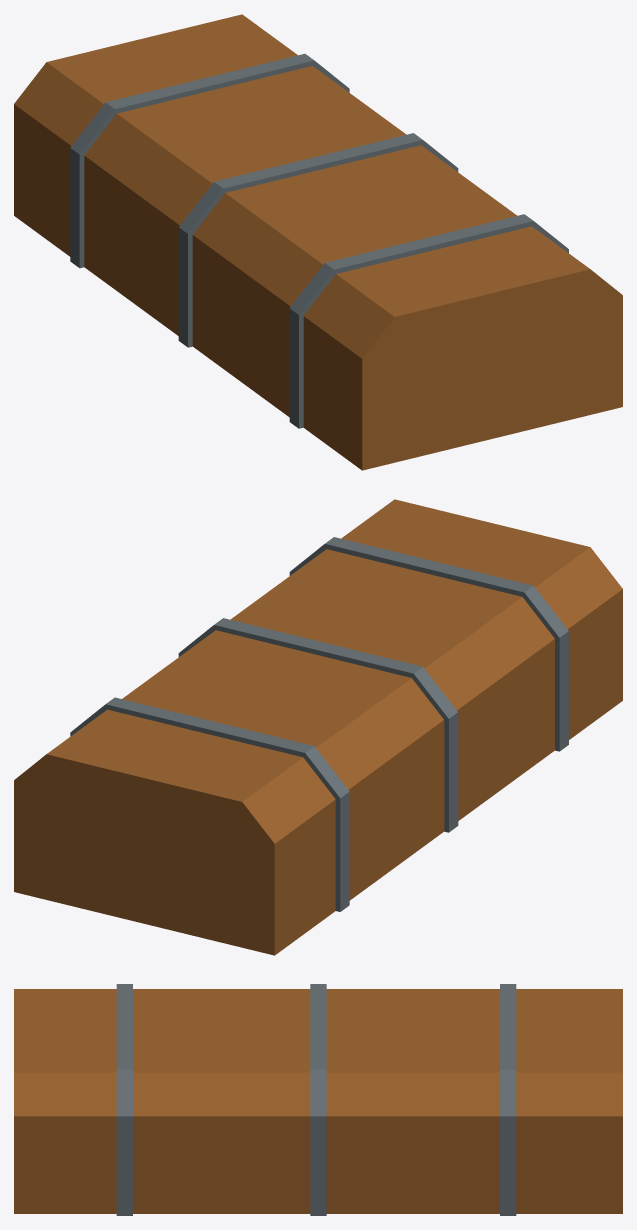
Rendered from Grosse_Mallette_.fbx.
The picture shows the model from 3 angles, top to bottom: view 1: azimuth 30°, elevation 25°; view 2: azimuth 150°, elevation 25°; view 3: azimuth 270°, elevation 25°; orthographic projection. The views are drawn at different scales.
Parts seen in each view (by area): view 1: Grosse_Mallette_; view 2: Grosse_Mallette_; view 3: Grosse_Mallette_.
Boxes of the visible parts, x1,y1,x2,y2 form: Grosse_Mallette_: (14, 14, 622, 470); Grosse_Mallette_: (14, 499, 622, 955); Grosse_Mallette_: (14, 984, 622, 1215).
Size of the model in its own units: 58.22 by 31.02 by 130.
Materials: 1 (1 with a texture image).
